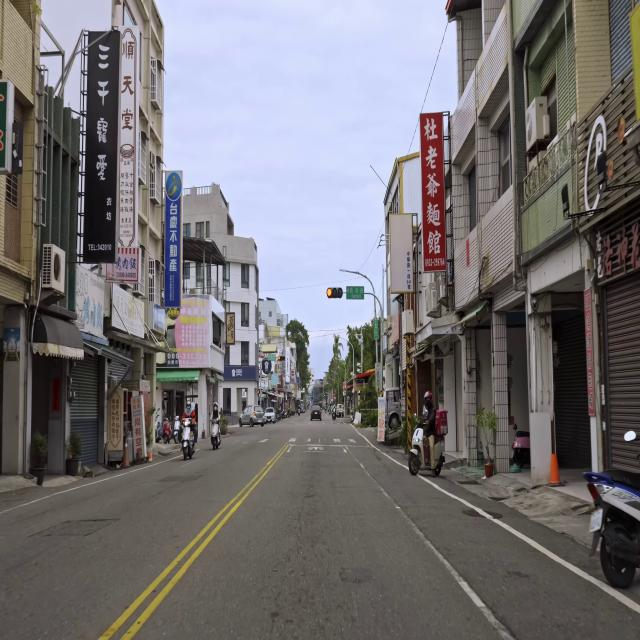red light: (327, 286, 343, 299), (278, 355, 286, 361)
